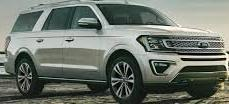SUV: (6, 2, 227, 104)
